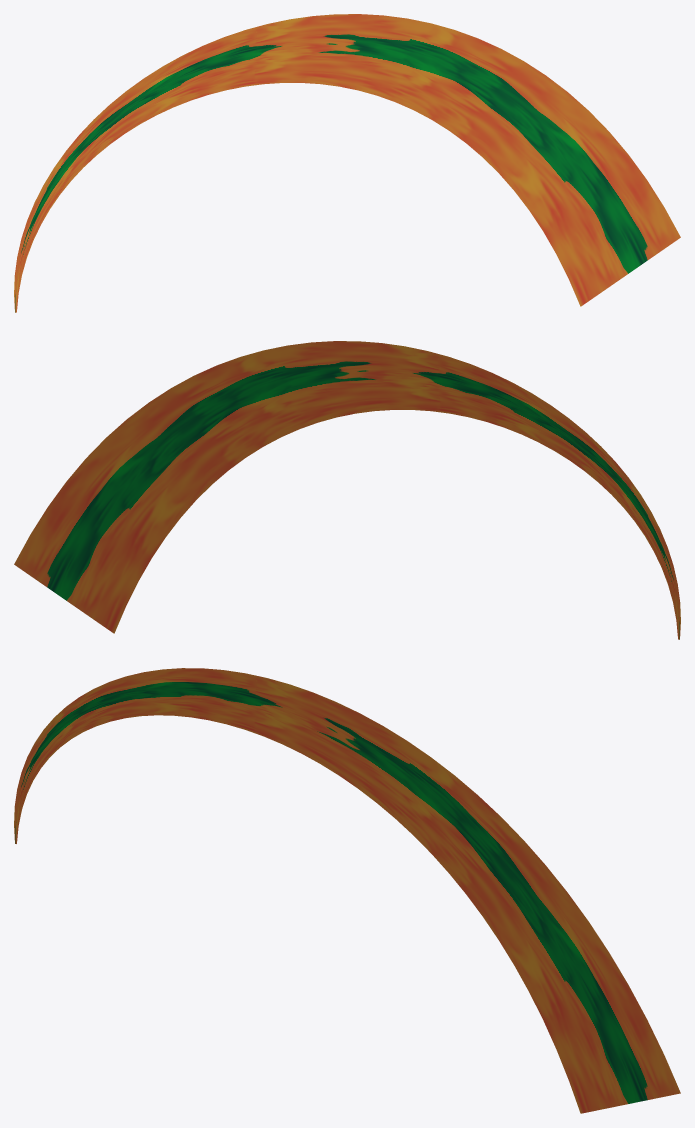
File: p_trashbot_loop_sprinkler05.fbx
The picture shows the model from 3 angles, top to bottom: view 1: azimuth 30°, elevation 25°; view 2: azimuth 150°, elevation 25°; view 3: azimuth 330°, elevation 25°; orthographic projection.
Parts seen in each view (by area): view 1: p_sprinkler_loop_plane_05; view 2: p_sprinkler_loop_plane_05; view 3: p_sprinkler_loop_plane_05.
Part boxes in pixels (x1=…): p_sprinkler_loop_plane_05: x1=14, y1=14, x2=680, y2=312; p_sprinkler_loop_plane_05: x1=14, y1=341, x2=680, y2=639; p_sprinkler_loop_plane_05: x1=14, y1=668, x2=680, y2=1113.
Size of the model in its own units: 146 by 75.27 by 2.47e-06.
